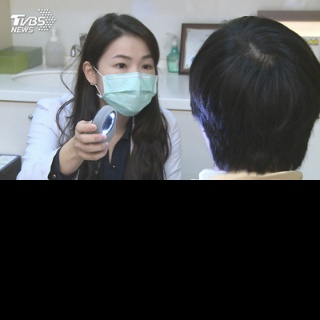with_mask: (100, 52, 160, 118)
